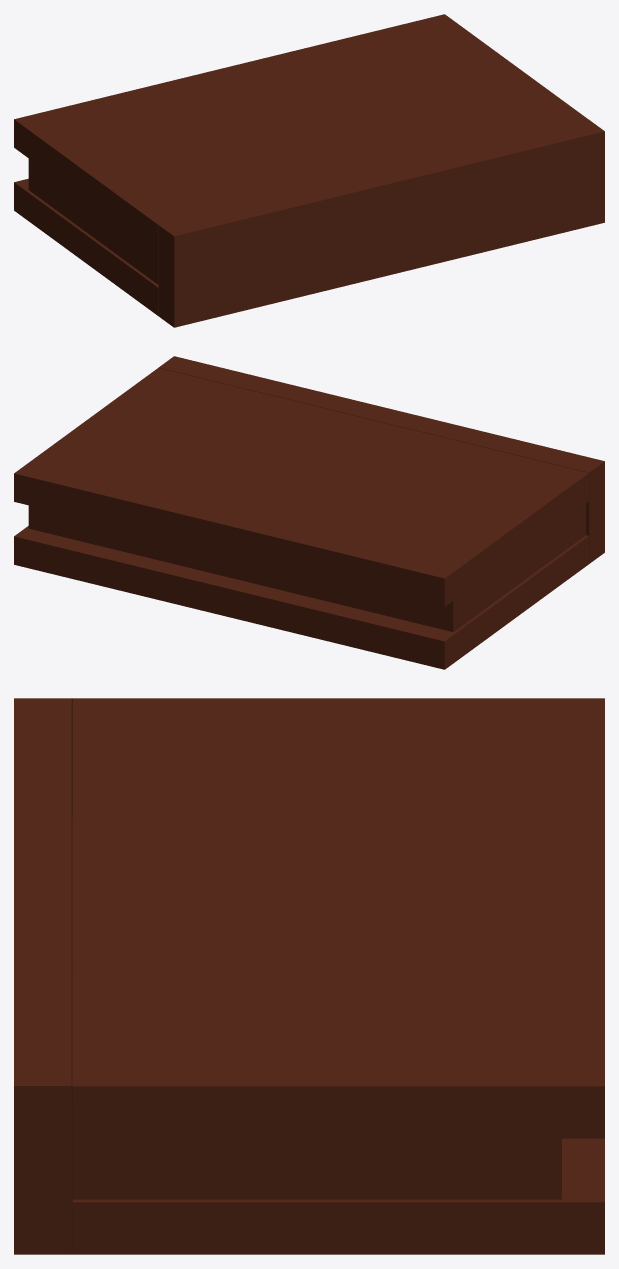
The model's file is book.fbx.
3 views of the same model, one above another, from view 1: azimuth 30°, elevation 25°; view 2: azimuth 150°, elevation 25°; view 3: azimuth 270°, elevation 25° (orthographic). The views are drawn at different scales.
Parts seen in each view (by area): view 1: Cube; view 2: Cube; view 3: Cube.
Part boxes in pixels (x1=…): Cube: x1=14, y1=14, x2=604, y2=327; Cube: x1=14, y1=356, x2=604, y2=669; Cube: x1=14, y1=698, x2=604, y2=1254.
Bounding box in the file's own units: 170 × 34.52 × 110.
